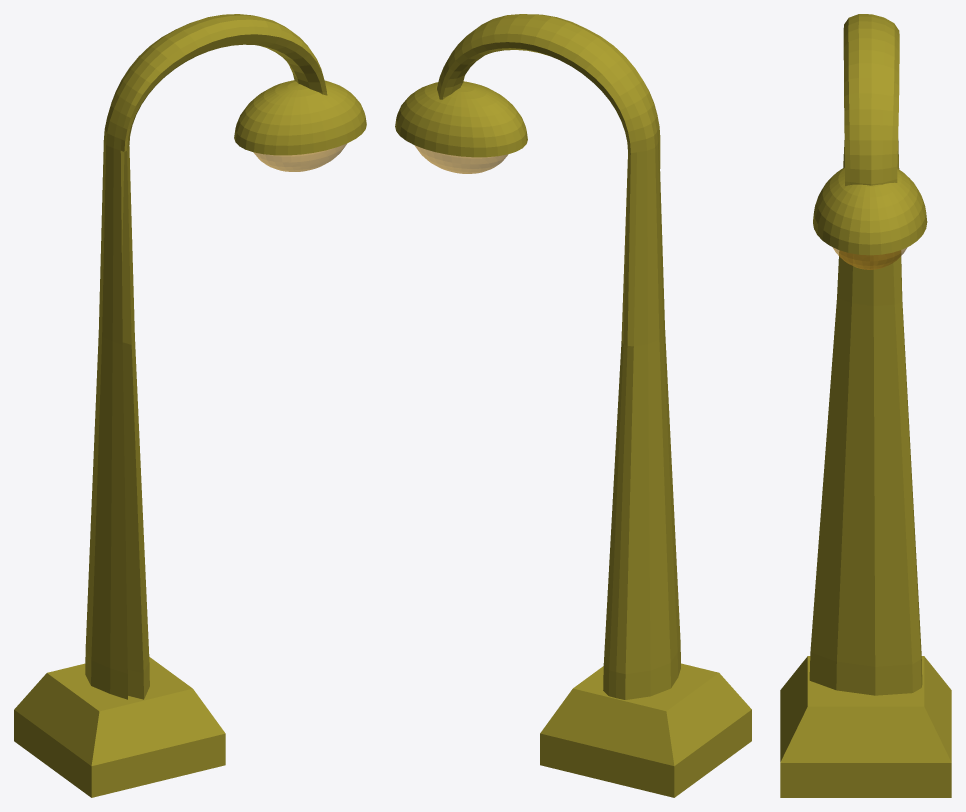
The model's file is Lampost.obj.
3 views of the same model, side by side, from view 1: azimuth 30°, elevation 25°; view 2: azimuth 150°, elevation 25°; view 3: azimuth 270°, elevation 25° (orthographic). The views are drawn at different scales.
Parts seen in each view (by area): view 1: Lampost; view 2: Lampost; view 3: Lampost.
Boxes of the visible parts, <box> form: Lampost: <box>14,14,366,797</box>; Lampost: <box>395,14,751,797</box>; Lampost: <box>780,14,951,797</box>.
Size of the model in its own units: 2.66 by 5.81 by 1.15.
